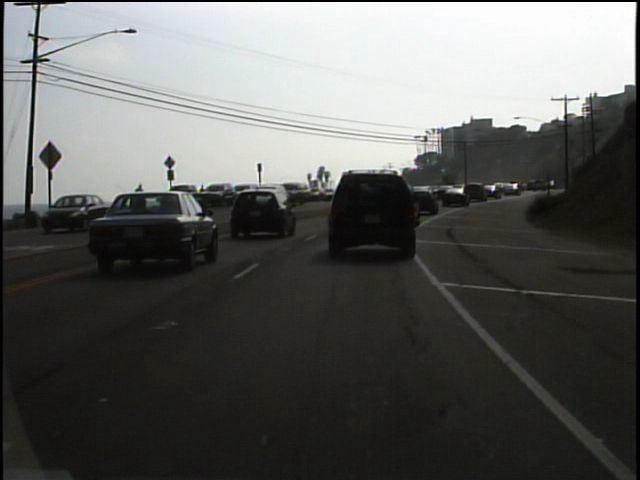person: (133, 180, 149, 213), (196, 183, 209, 209)
